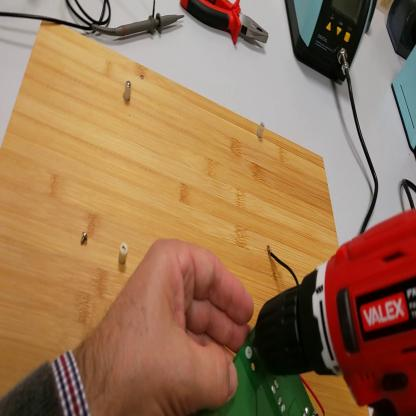electric screwdriver: (252, 211, 416, 416)
hand: (92, 236, 251, 416)
low voltage board: (199, 328, 316, 415)
oscilloscope probe tip: (116, 11, 189, 44)
pliers: (181, 1, 270, 52)
socket: (388, 2, 416, 59), (365, 2, 378, 36)
welder base: (391, 45, 416, 157)
welder station: (286, 1, 371, 84)
working area: (2, 15, 369, 413)
